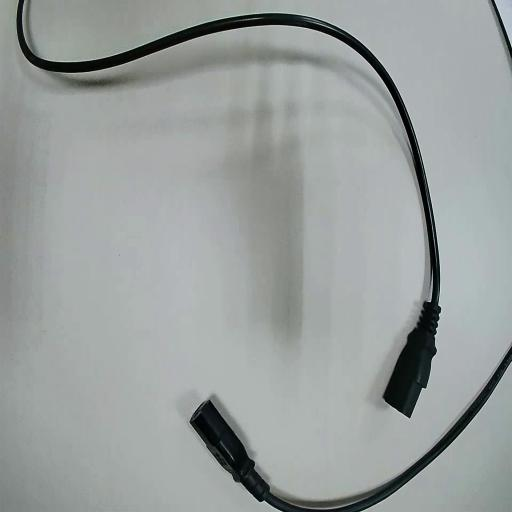wire: (17, 0, 439, 415), (191, 349, 511, 511)
